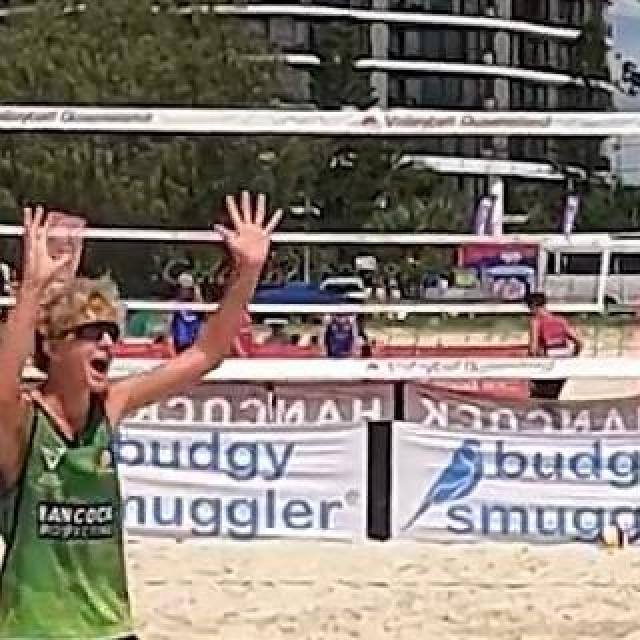volleyball: (598, 526, 626, 554)
